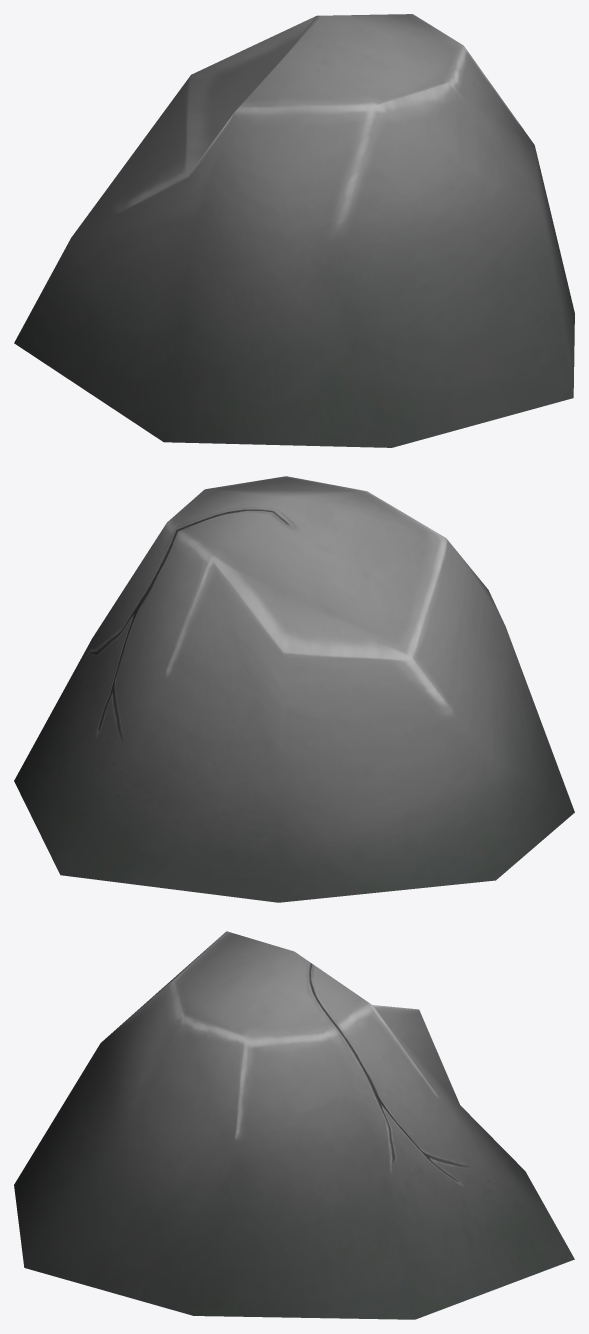
Rendered from 石頭B.fbx.
3 views of the same model, one above another, from view 1: azimuth 30°, elevation 25°; view 2: azimuth 150°, elevation 25°; view 3: azimuth 270°, elevation 25° (orthographic). The views are drawn at different scales.
Visible parts, largest first — view 1: Cube.003; view 2: Cube.003; view 3: Cube.003.
Part boxes in pixels (bbox=[...]): Cube.003: bbox=[14, 14, 574, 447]; Cube.003: bbox=[14, 476, 574, 902]; Cube.003: bbox=[14, 931, 574, 1319].
Bounding box in the file's own units: 3.37 × 2.15 × 3.76.
Materials: 1 (1 with a texture image).
